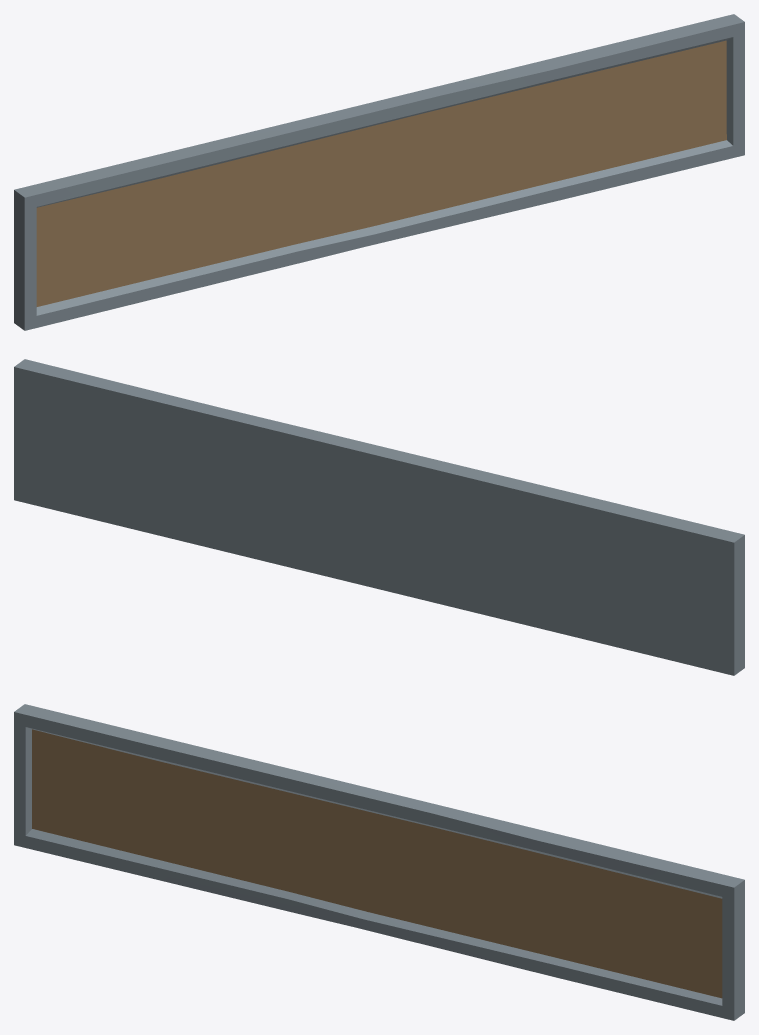
The model's file is SM_Sign_Backing_Long_02.obj.
3 renders of one model, top to bottom at view 1: azimuth 30°, elevation 25°; view 2: azimuth 150°, elevation 25°; view 3: azimuth 330°, elevation 25°, orthographic.
Visible parts, largest first — view 1: SM_Sign_Backing_Long_02_0; view 2: SM_Sign_Backing_Long_02_0; view 3: SM_Sign_Backing_Long_02_0.
Part boxes in pixels (x1,y1,x2,y2): SM_Sign_Backing_Long_02_0: [14, 14, 744, 330]; SM_Sign_Backing_Long_02_0: [14, 359, 744, 675]; SM_Sign_Backing_Long_02_0: [14, 704, 744, 1020].
Size of the model in its own units: 8.01 by 1.42 by 0.2083.
Materials: 1 (1 with a texture image).
